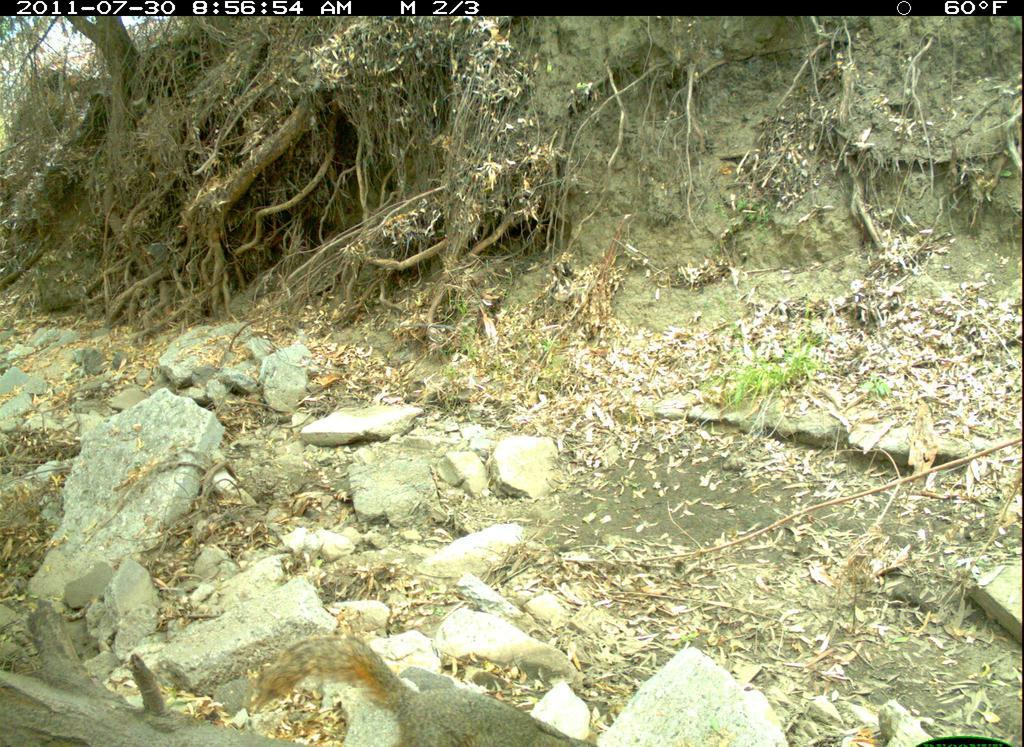squirrel: (233, 621, 623, 747)
